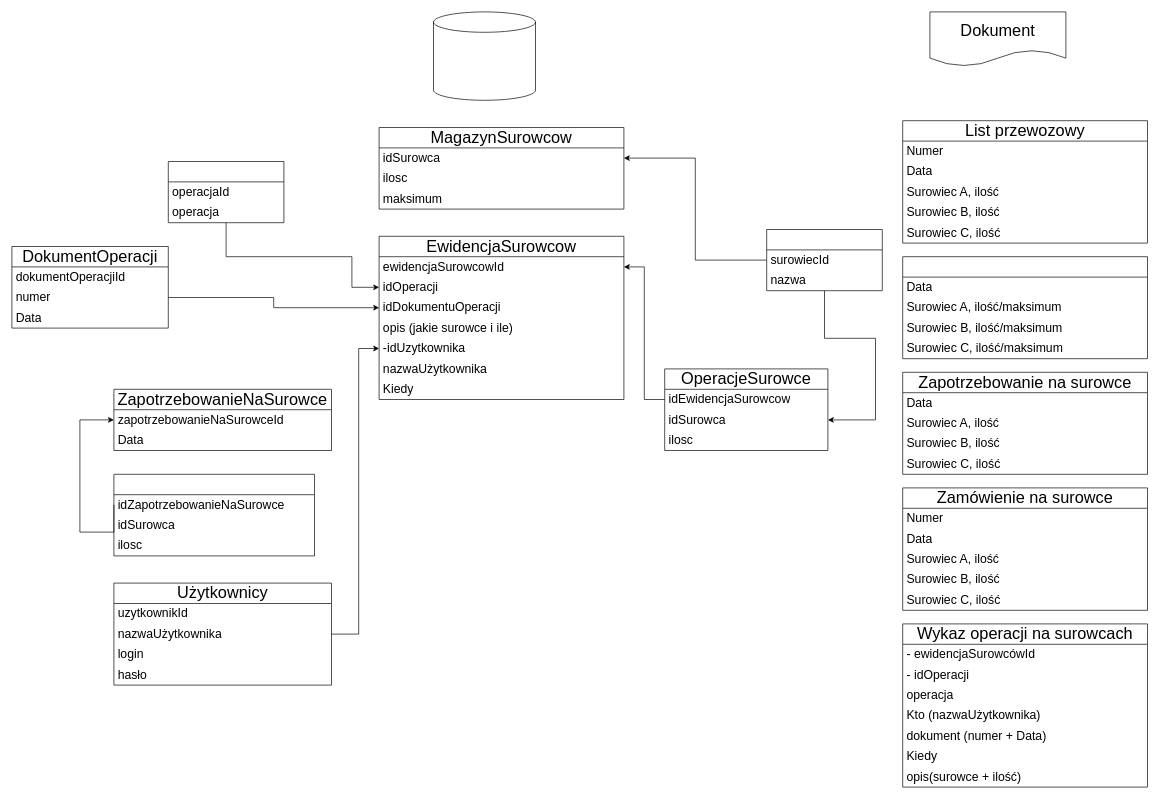
Some shapes in this 1159 by 799 pixel diagram are drawn without their labels. The box of each missing label's shape, as (x1, y1, x2, y2) in pixels:
Baza danych: (433, 11, 536, 100)
Operacje: (168, 161, 284, 223)
Stan surowców w magazynie: (902, 256, 1148, 359)
Surowce: (766, 229, 882, 291)
ZapotrzebowanieSurowce: (113, 474, 314, 556)
